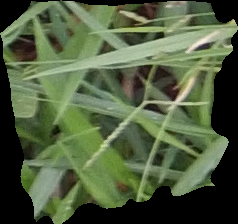grass: (1, 1, 235, 222)
